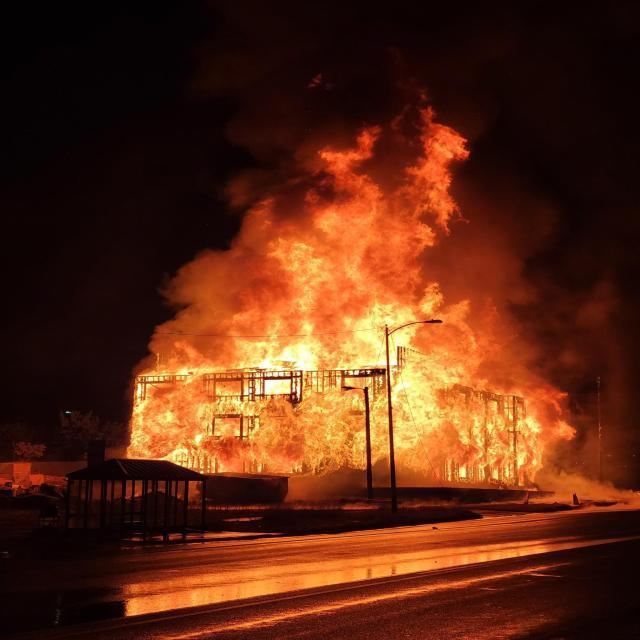Fire: (93, 82, 604, 506)
